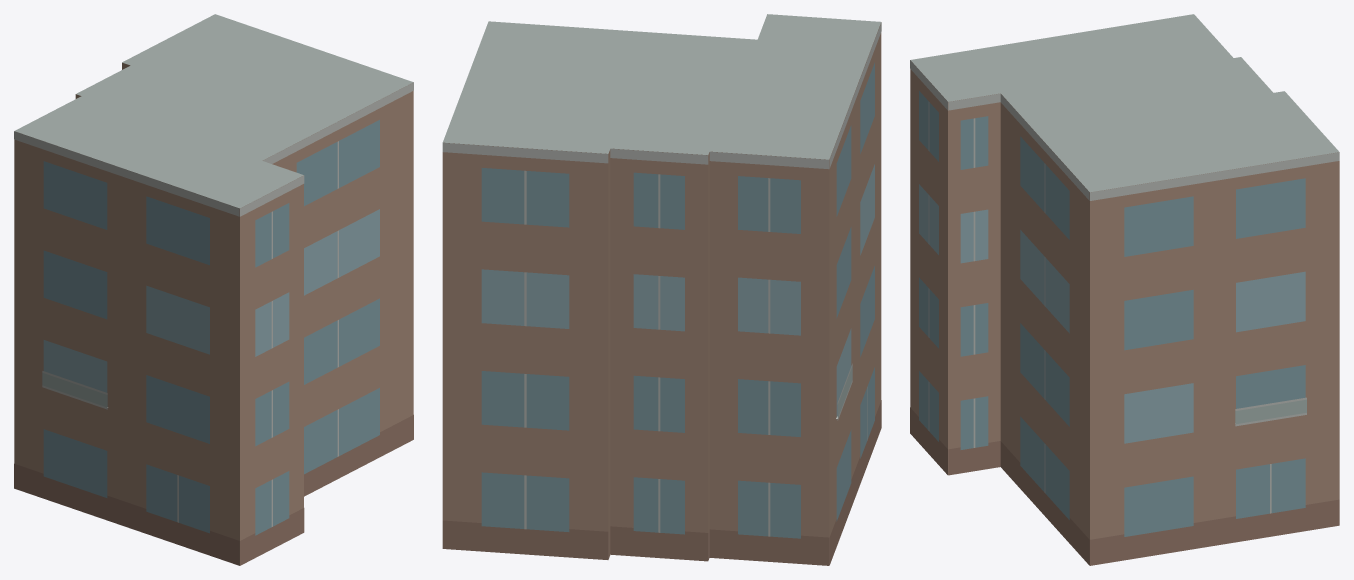
File: survey-upis-32992969.glb
3 views of the same model, side by side, from view 1: azimuth 30°, elevation 25°; view 2: azimuth 150°, elevation 25°; view 3: azimuth 270°, elevation 25° (orthographic). The views are drawn at different scales.
Parts seen in each view (by area): view 1: survey-upis-32992969.tmp; view 2: survey-upis-32992969.tmp; view 3: survey-upis-32992969.tmp.
Boxes of the visible parts, bbox=[...] form: survey-upis-32992969.tmp: bbox=[14, 14, 413, 565]; survey-upis-32992969.tmp: bbox=[442, 14, 881, 565]; survey-upis-32992969.tmp: bbox=[910, 14, 1339, 565].
Bounding box in the file's own units: 10.66 × 10.4 × 10.85.
